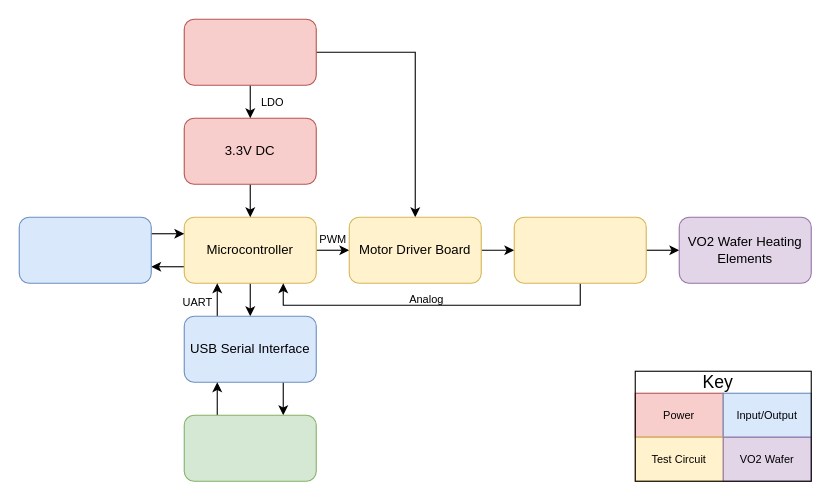
The diagram is 831 pixels wide and 501 high, and some of its shapes have lost their labels. Each missing label, with the centre of its shape:
"16V DC" goes at [249,51].
"Current Sensor" goes at [579,249].
"Status LEDs, Buttons" goes at [84,249].
"User" goes at [249,447].
